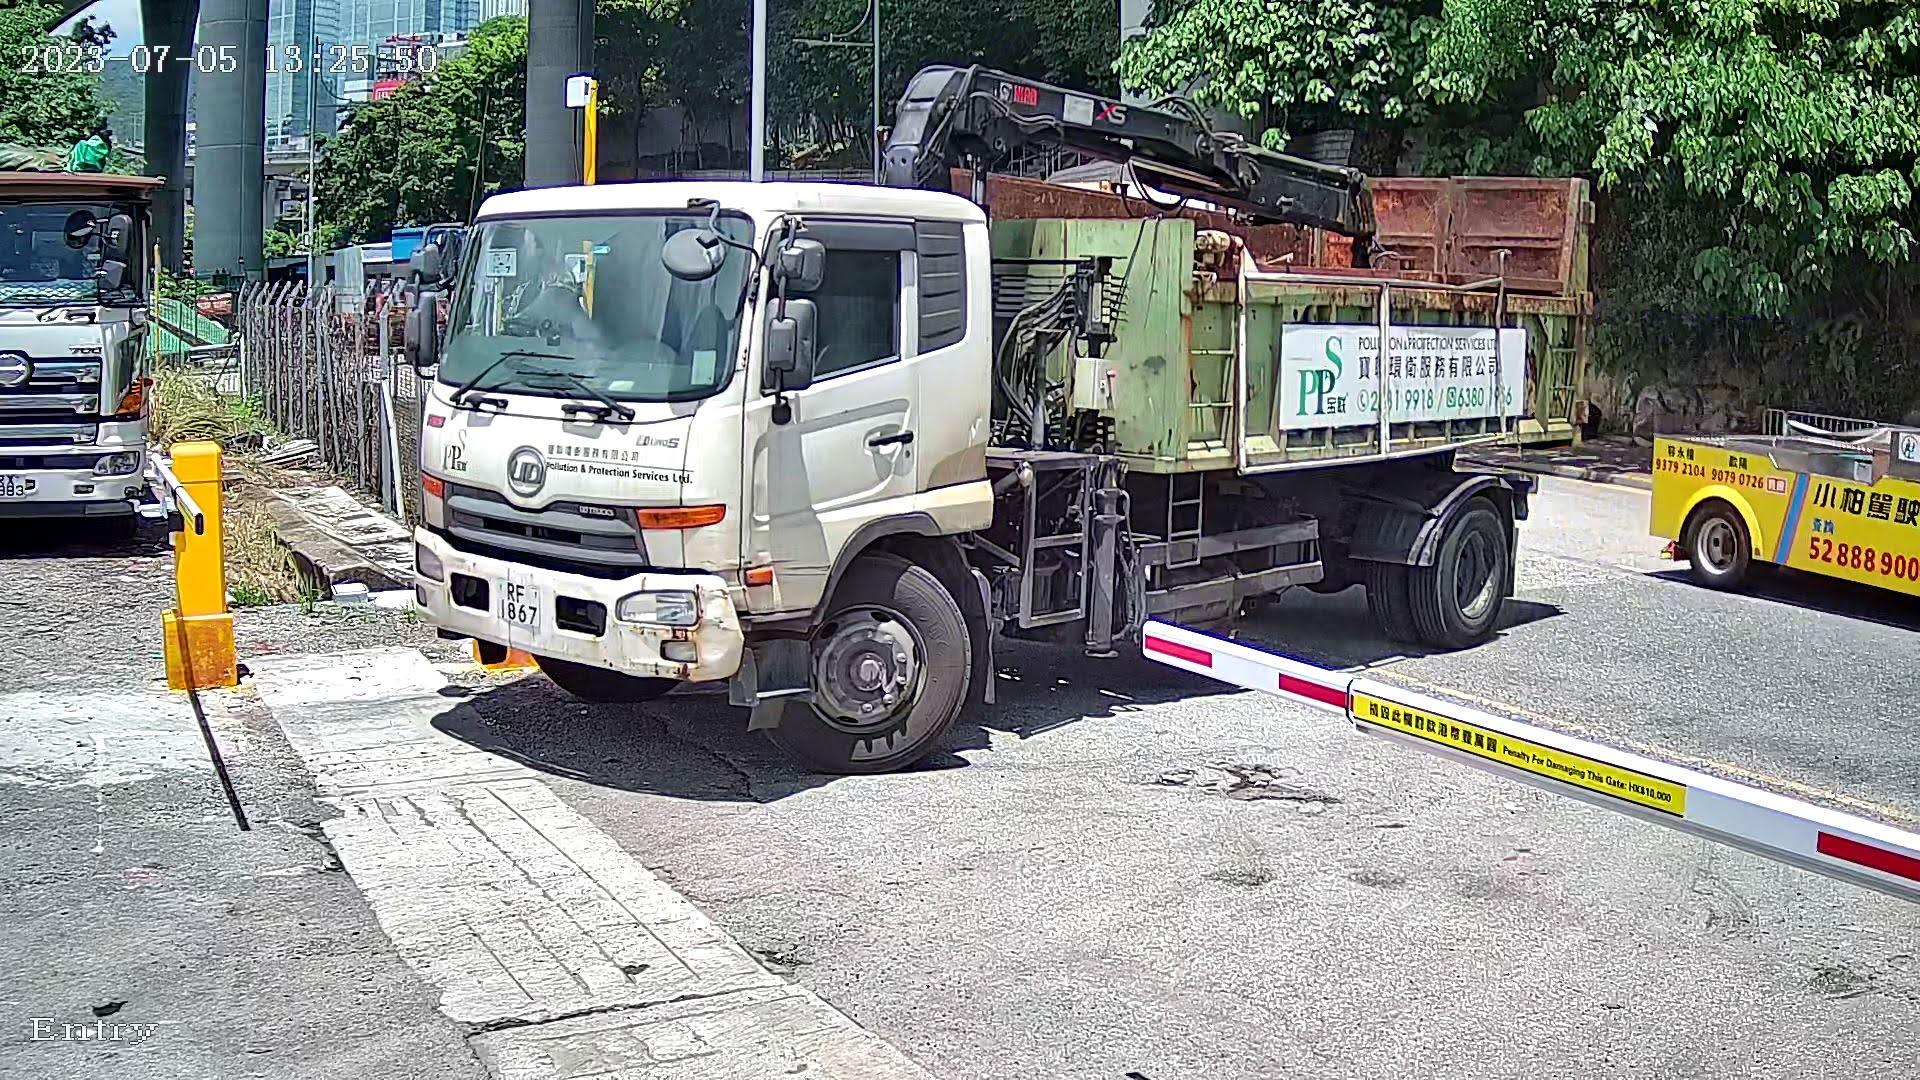truck_small: (371, 42, 1636, 796)
